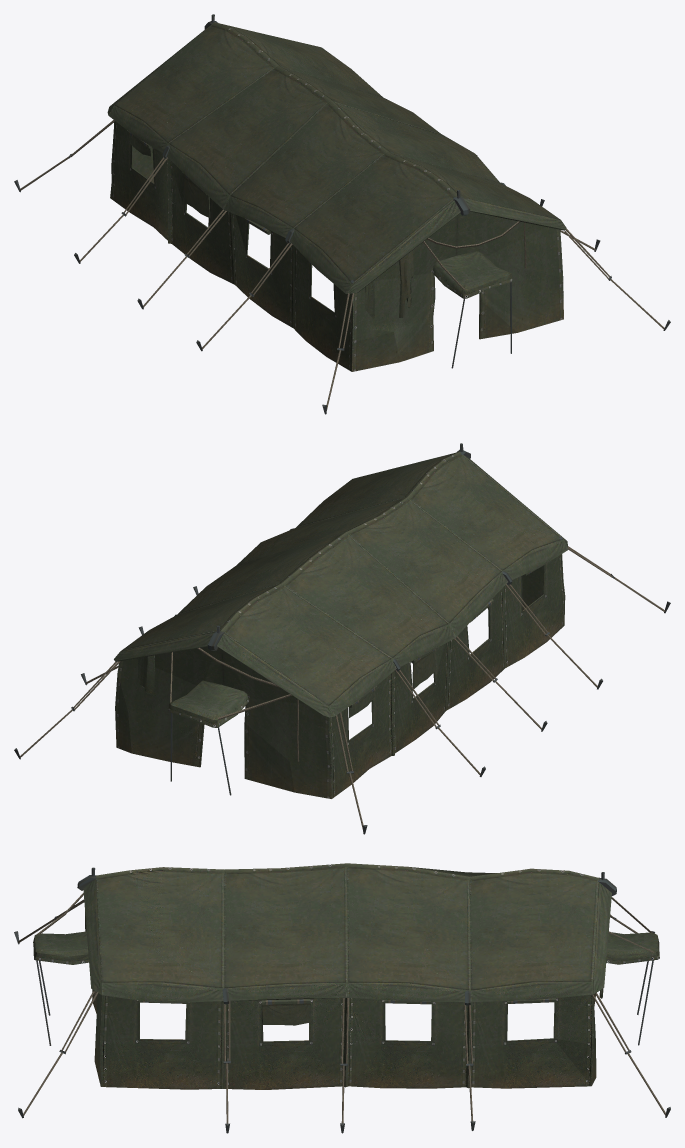
The model's file is Tent_Big.obj.
3 views of the same model, one above another, from view 1: azimuth 30°, elevation 25°; view 2: azimuth 150°, elevation 25°; view 3: azimuth 270°, elevation 25° (orthographic). The views are drawn at different scales.
Parts seen in each view (by area): view 1: Tent_Big; view 2: Tent_Big; view 3: Tent_Big.
Part boxes in pixels (x1,y1,x2,y2): Tent_Big: (14, 14, 670, 414); Tent_Big: (14, 443, 670, 834); Tent_Big: (14, 863, 670, 1133).
Bounding box in the file's own units: 57.74 × 21.42 × 76.95.
